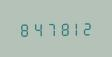eight: (17, 20, 29, 37), (57, 19, 69, 36)
four: (30, 20, 42, 37)
one: (70, 19, 82, 36)
seven: (44, 20, 56, 36)
two: (83, 19, 95, 36)
